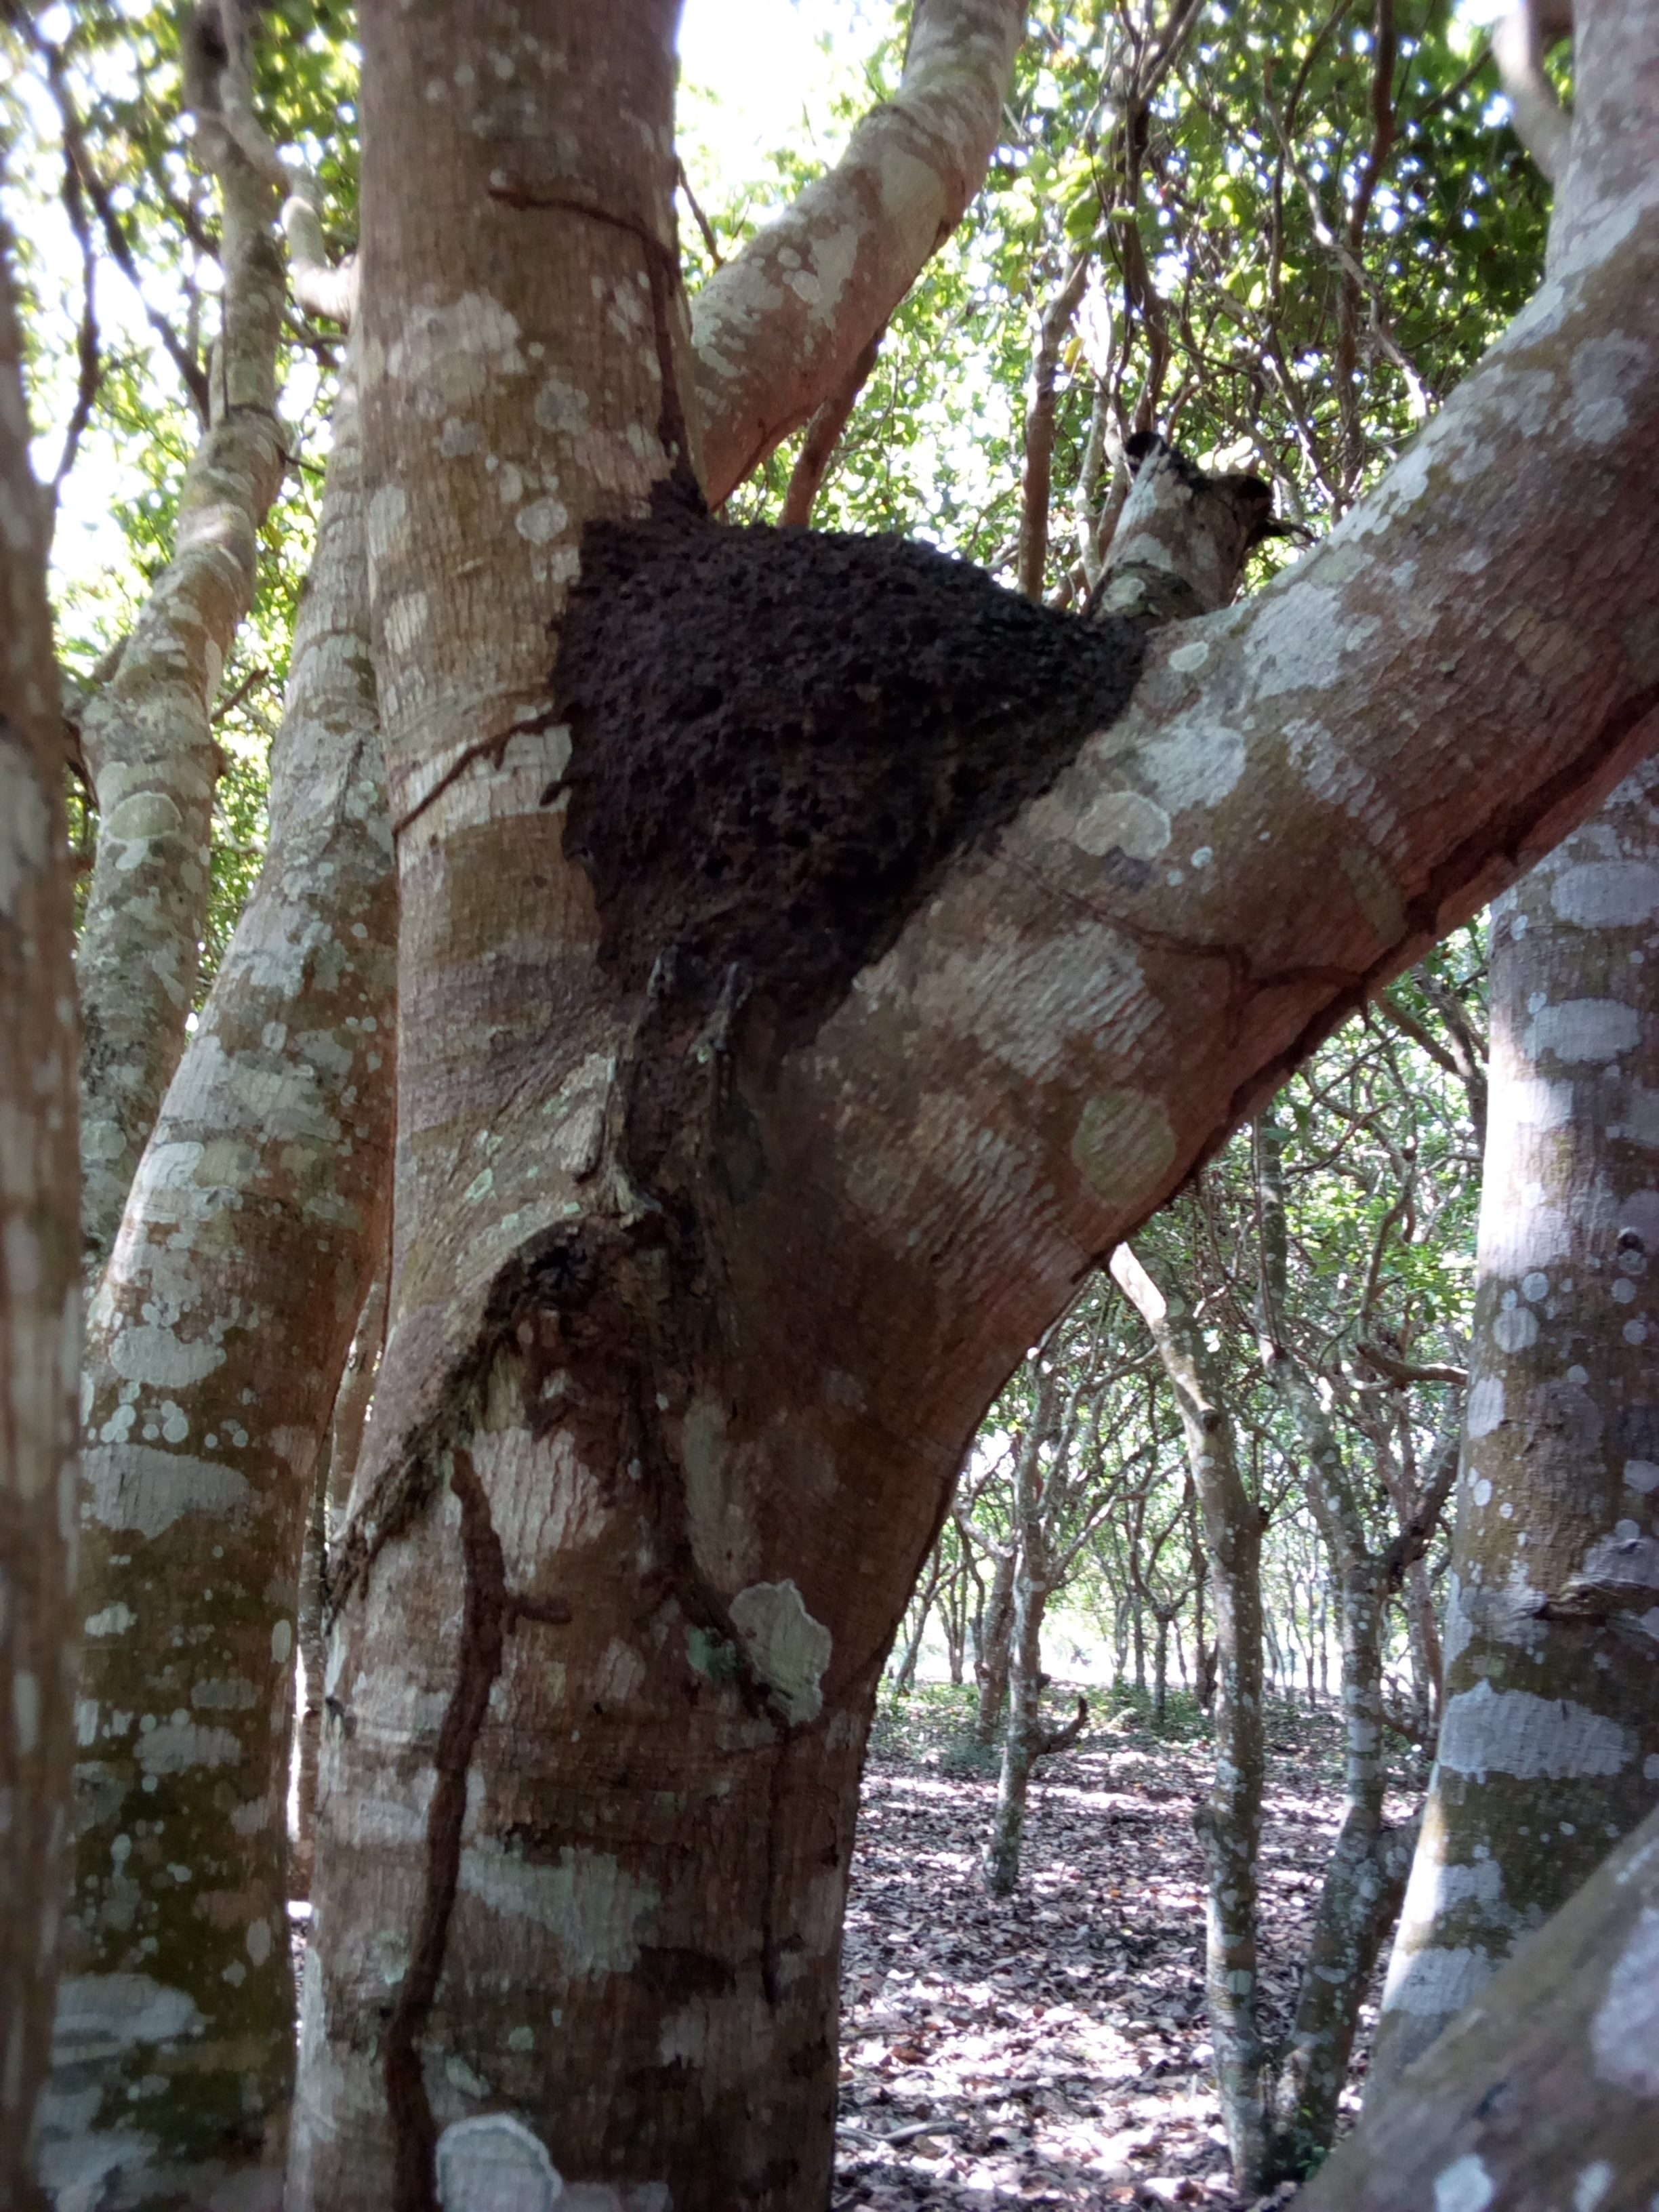Termites: (554, 536, 1131, 1017), (378, 1454, 500, 2212)
